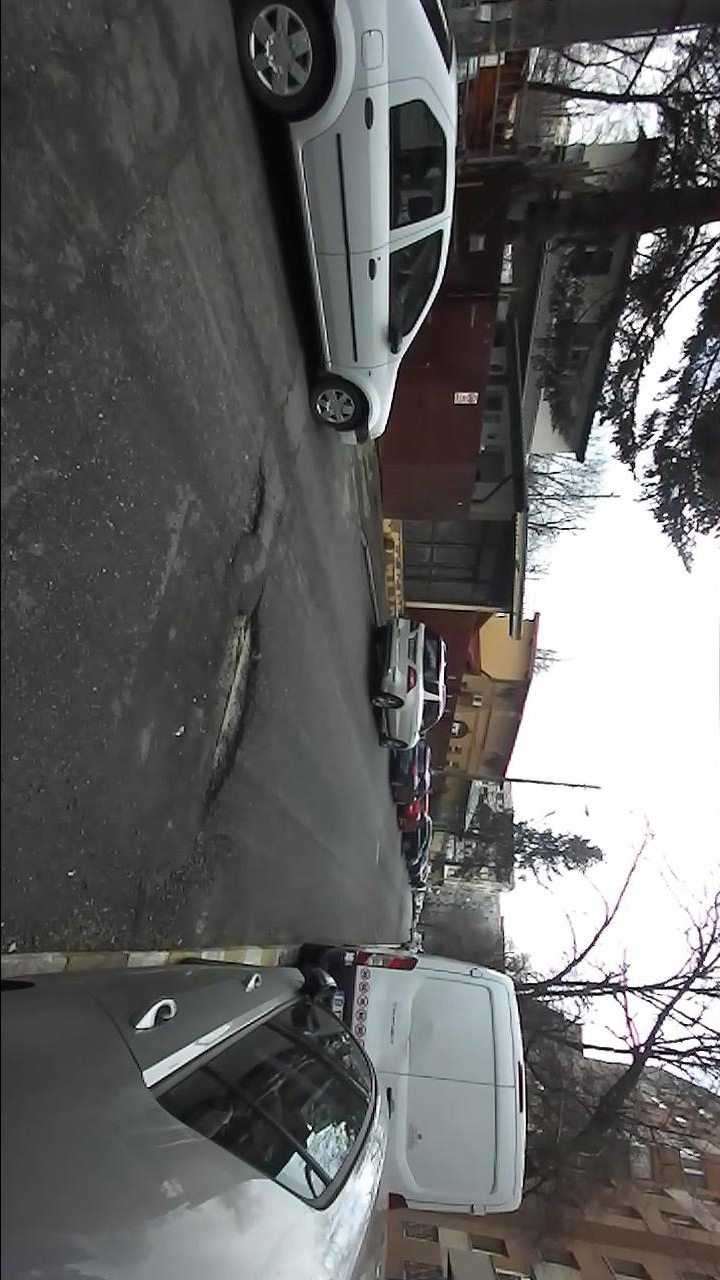pothole: (188, 582, 271, 836), (228, 449, 270, 566)
